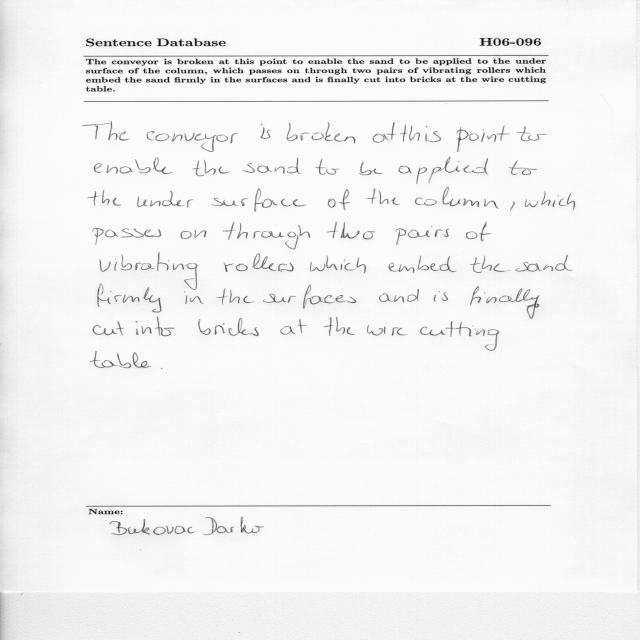word: (100, 252, 197, 290), (399, 157, 489, 184), (222, 222, 310, 249), (420, 321, 499, 351), (470, 286, 540, 319), (212, 188, 306, 212), (263, 285, 356, 309), (147, 131, 239, 152), (98, 284, 161, 313), (415, 187, 498, 209), (287, 122, 356, 144), (457, 125, 510, 152), (224, 253, 294, 272), (94, 158, 173, 174), (93, 228, 161, 245), (389, 256, 456, 273), (198, 318, 259, 336), (396, 226, 450, 245), (242, 157, 302, 174), (310, 256, 366, 274), (515, 255, 573, 272), (137, 191, 194, 208), (525, 192, 575, 211), (83, 122, 129, 141), (327, 222, 375, 239), (136, 317, 175, 336), (400, 124, 441, 142), (470, 256, 511, 273), (91, 352, 131, 369), (192, 160, 230, 176), (217, 289, 255, 305), (323, 317, 355, 336), (367, 322, 408, 336), (88, 190, 122, 206), (366, 189, 400, 205), (379, 289, 419, 302), (373, 123, 397, 143), (466, 222, 491, 241), (328, 190, 350, 211), (517, 127, 547, 142), (93, 321, 125, 335), (280, 319, 307, 335), (509, 160, 537, 175), (315, 159, 340, 175), (359, 162, 383, 175), (133, 352, 151, 368), (184, 292, 204, 304), (181, 230, 206, 239), (260, 123, 271, 139), (434, 291, 448, 301), (510, 202, 515, 212)
